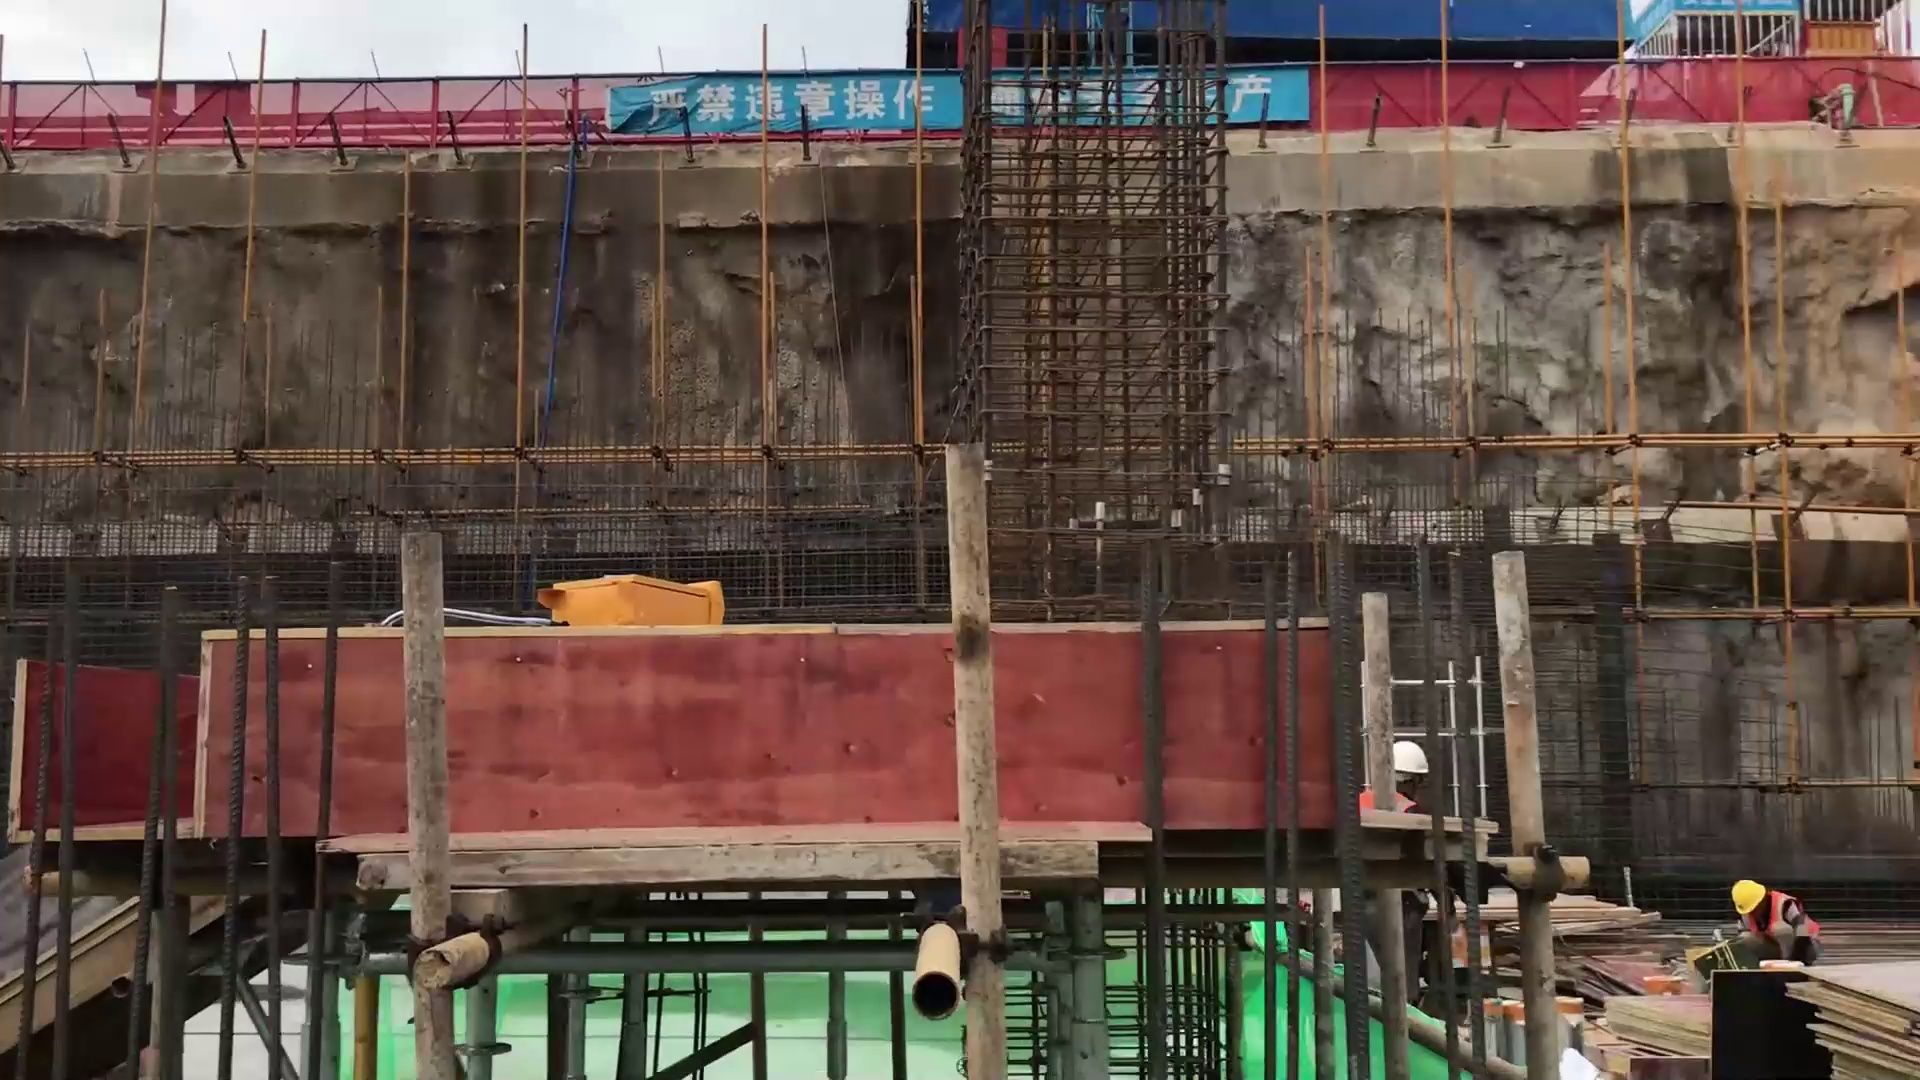board: (1789, 967, 1920, 1072), (1603, 987, 1718, 1052)
fence: (38, 52, 1913, 157)
helmet: (1383, 731, 1431, 796), (1729, 877, 1761, 924)
person: (1368, 718, 1459, 1011), (1729, 870, 1836, 966)
slogan: (611, 62, 1311, 126)
vest: (1362, 791, 1434, 911), (1746, 893, 1827, 954)
